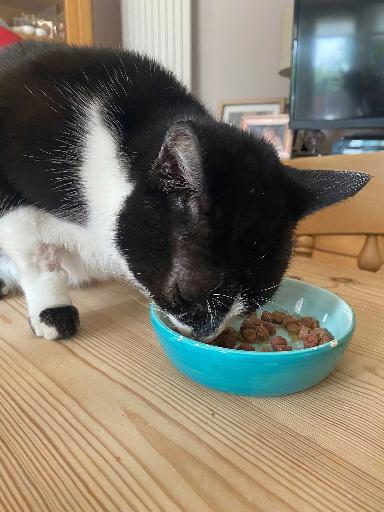cat_eating: (0, 40, 370, 397), (0, 41, 369, 396)
